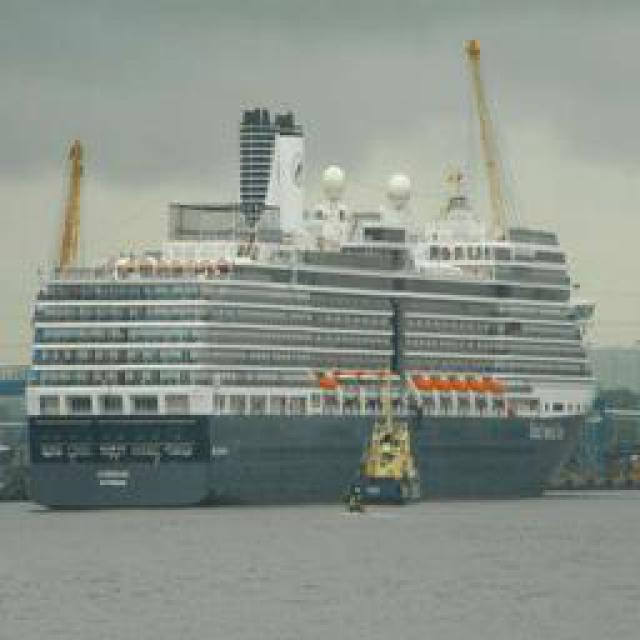Ship: (28, 69, 603, 502)
